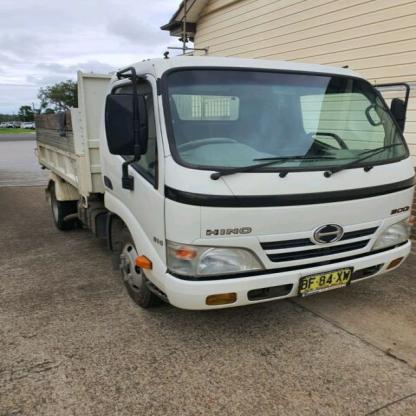dump_truck: (22, 45, 415, 331)
